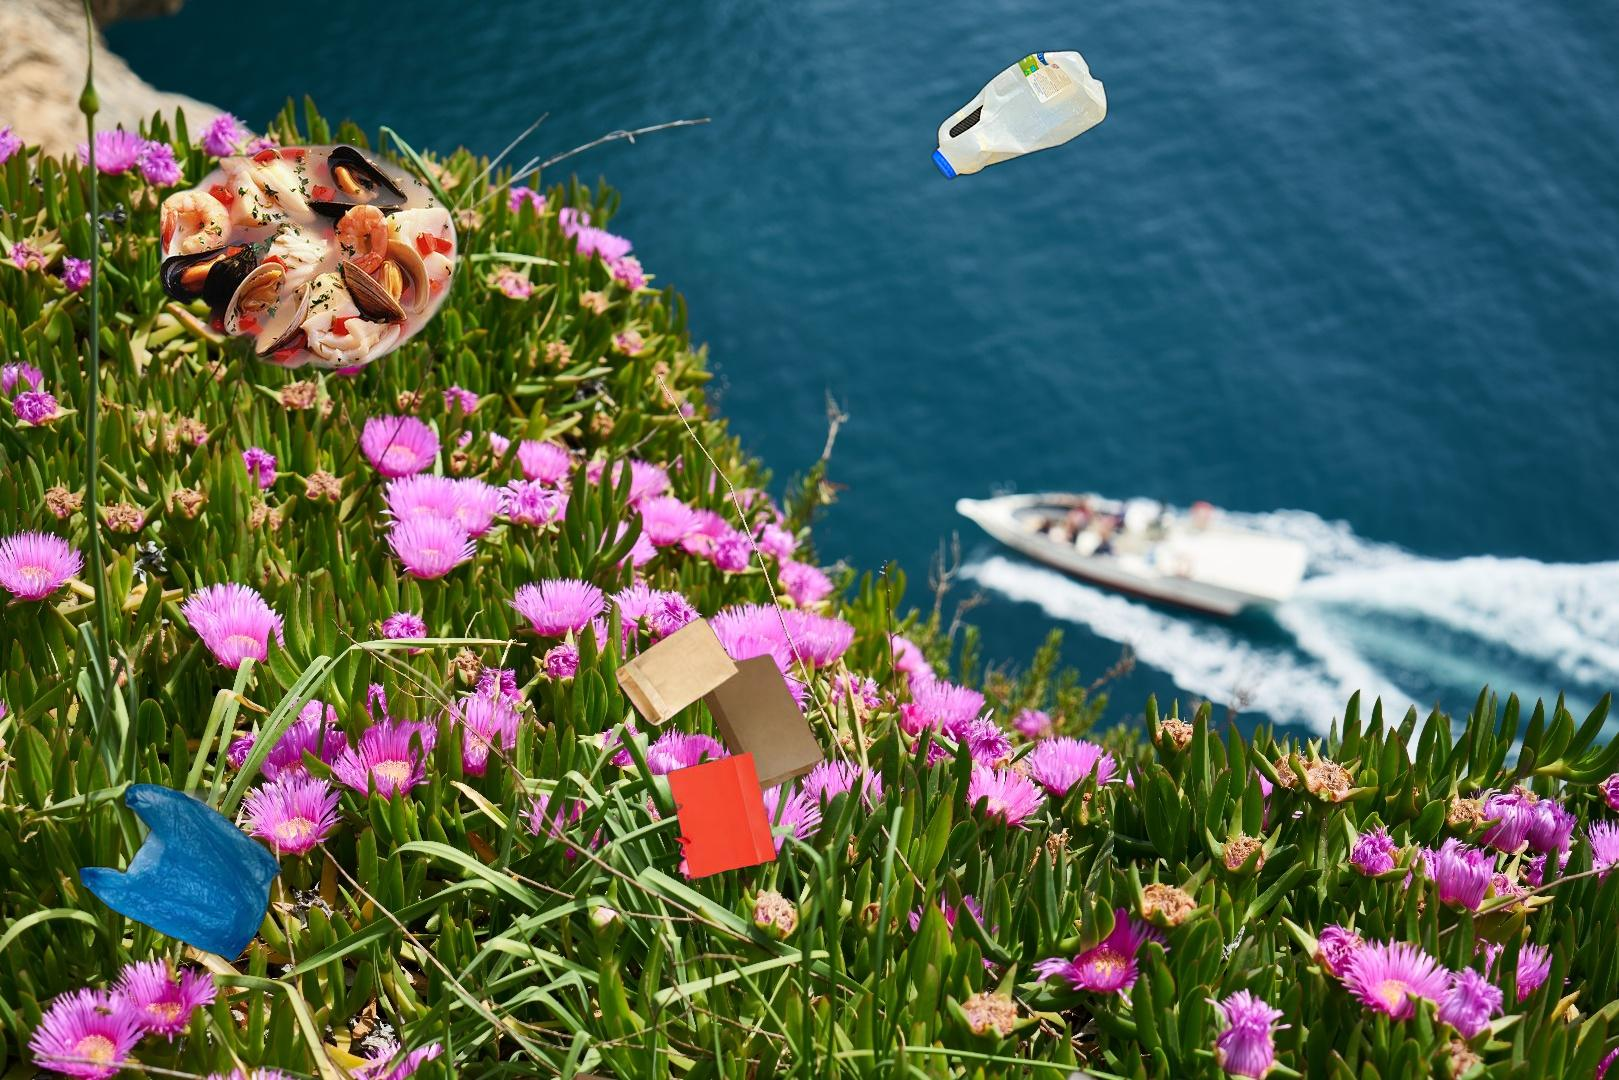biological: (156, 134, 463, 372)
paper-bag: (600, 609, 868, 890), (558, 1070, 665, 1080)
penholder: (1050, 1064, 1590, 1080)
plastic-bag: (75, 780, 291, 964)
plastic-bottles: (928, 45, 1111, 186)
